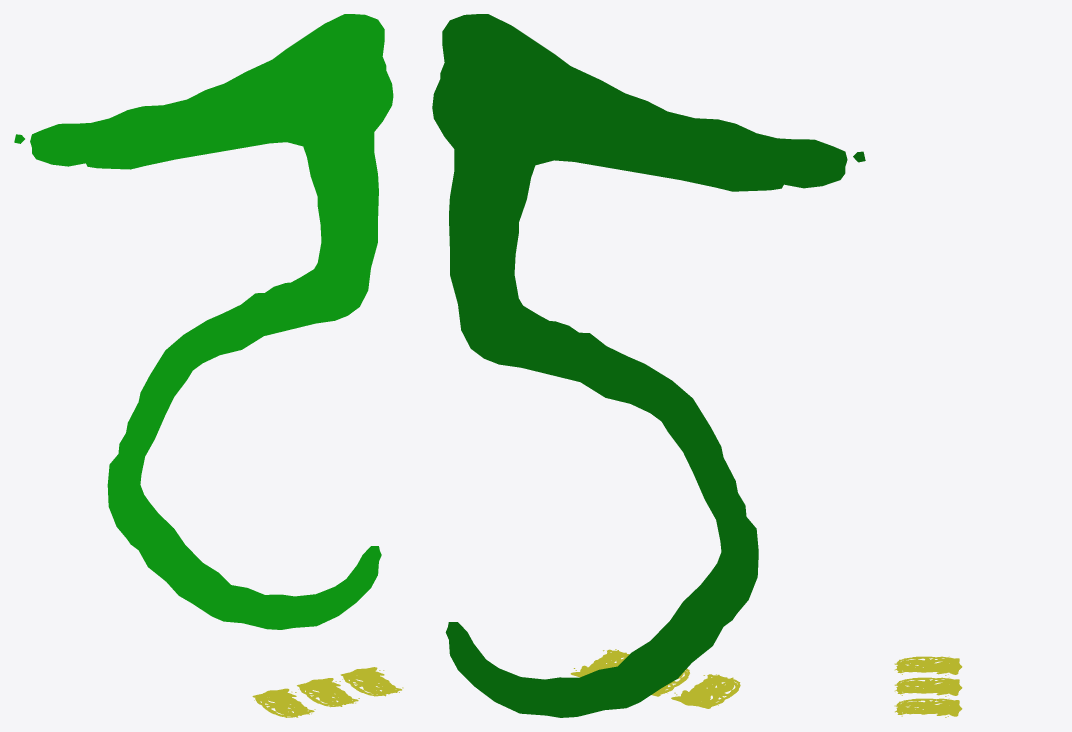
The model's file is hsfive.obj.
3 views of the same model, side by side, from view 1: azimuth 30°, elevation 25°; view 2: azimuth 150°, elevation 25°; view 3: azimuth 270°, elevation 25° (orthographic). The views are drawn at different scales.
Visible parts, largest first — view 1: hsfive.008; view 2: hsfive.008; view 3: eight.002, eight.004.
Part boxes in pixels (<box>): hsfive.008: <box>14,14,393,629</box>; hsfive.008: <box>432,14,865,717</box>; eight.002: <box>901,698,959,716</box>; eight.004: <box>900,656,959,674</box>.
Bounding box in the file's own units: 0.3432 × 0.5277 × 0.1315.
